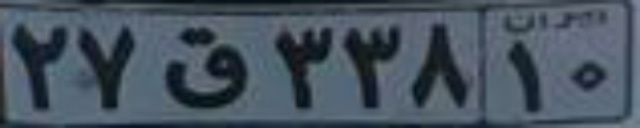0: (567, 60, 609, 91)
1: (501, 40, 541, 112)
2: (14, 22, 69, 111)
3: (343, 23, 403, 108), (271, 27, 331, 108)
7: (76, 24, 143, 110)
8: (409, 23, 475, 107)
ghaf: (161, 28, 252, 109)
